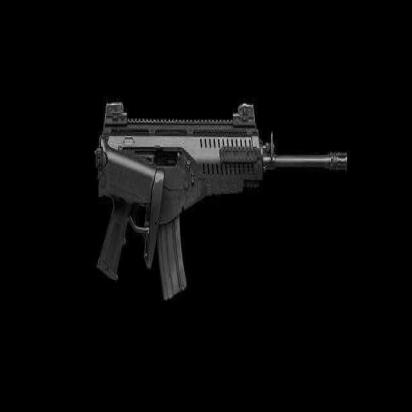Gun: (93, 95, 349, 307)
